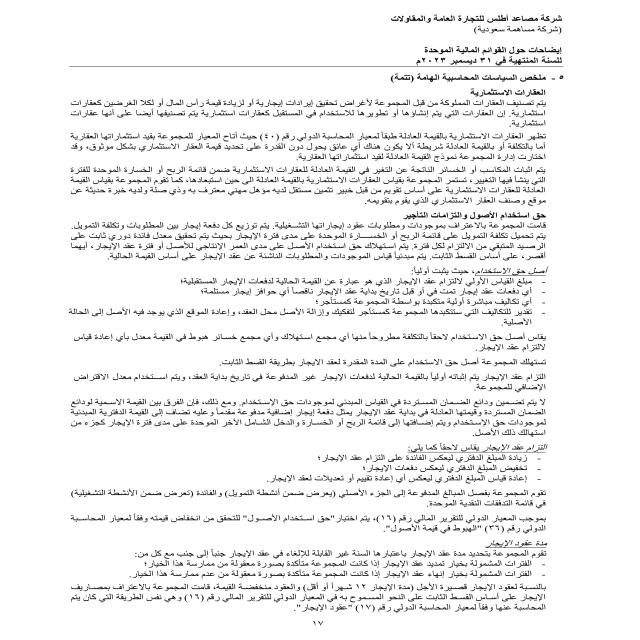notes: (415, 44, 577, 56)
text: (40, 84, 567, 623)
